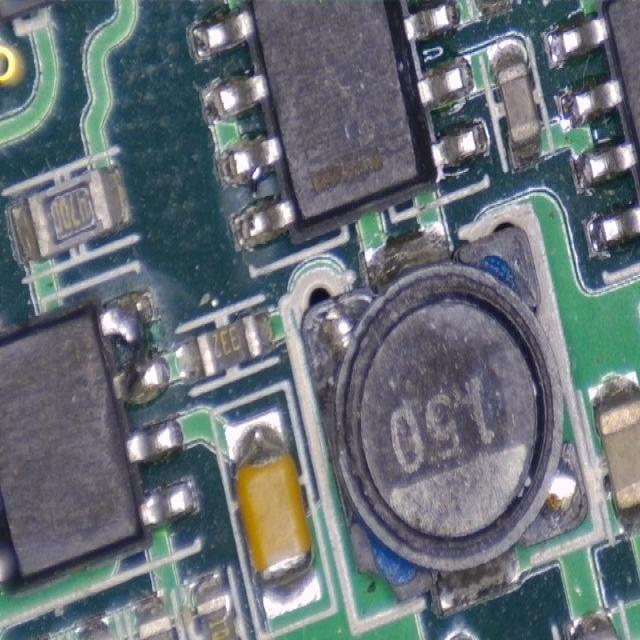Short_circuit: (216, 134, 296, 251), (99, 291, 165, 403)
